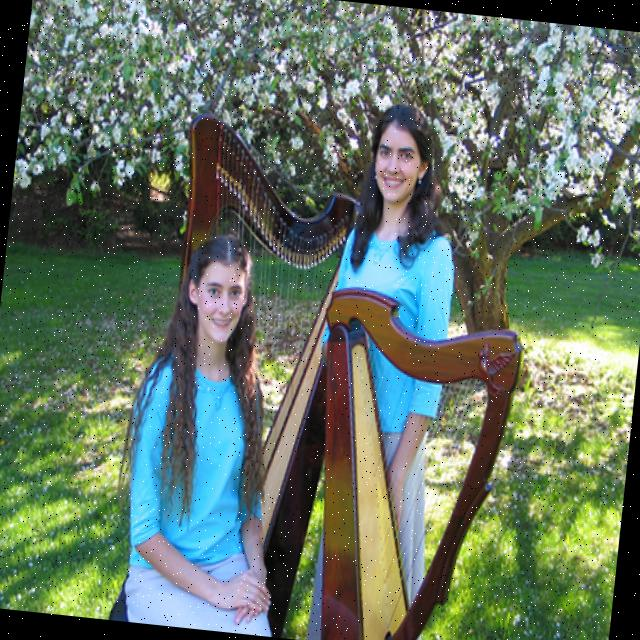harp: (134, 105, 366, 640), (278, 281, 526, 640)
